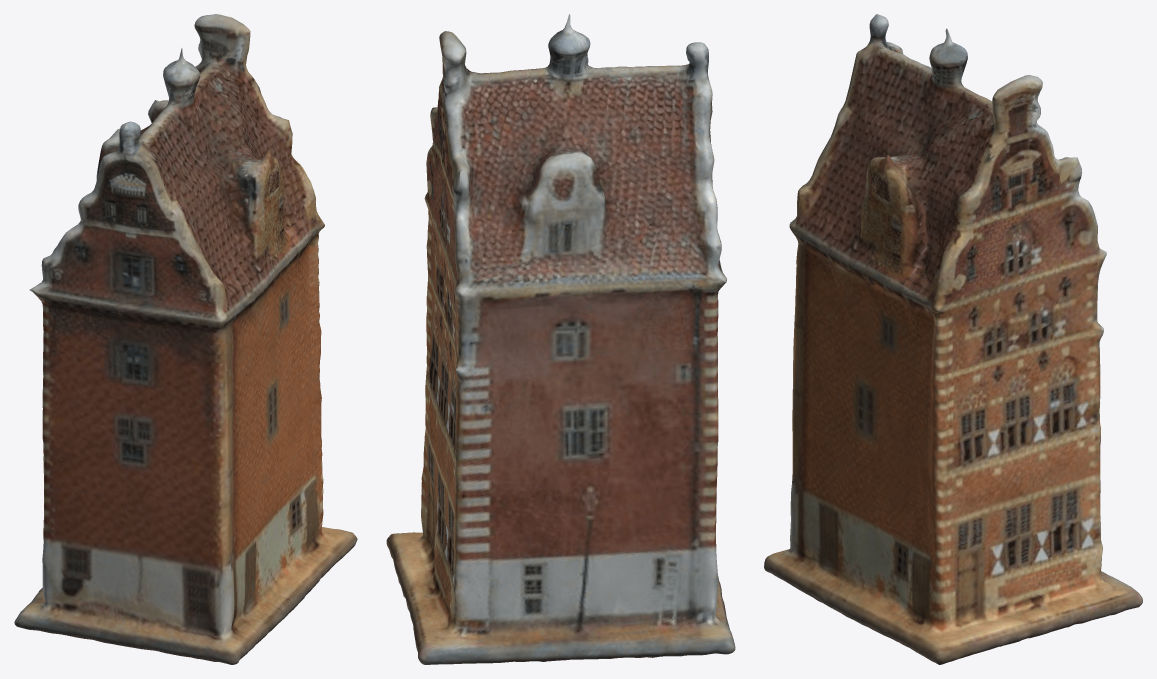
3 renders of one model, left to right at view 1: azimuth 30°, elevation 25°; view 2: azimuth 150°, elevation 25°; view 3: azimuth 270°, elevation 25°, orthographic. The views are drawn at different scales.
Visible parts, largest first — view 1: Object_4; view 2: Object_4; view 3: Object_4.
Boxes of the visible parts, <box> form: Object_4: <box>14,14,357,664</box>; Object_4: <box>386,14,735,664</box>; Object_4: <box>764,14,1142,664</box>.
Size of the model in its own units: 0.5865 by 0.9264 by 0.5645.
Materials: 1 (1 with a texture image).
